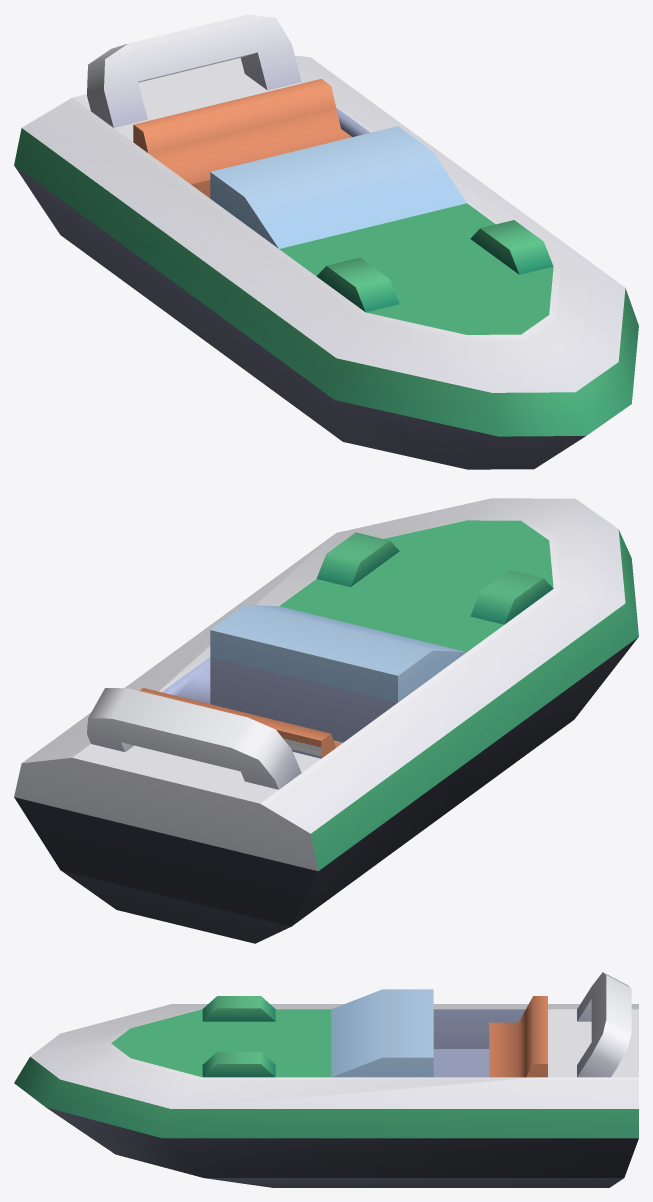
File: boat-speed-j-transformed.glb
3 views of the same model, one above another, from view 1: azimuth 30°, elevation 25°; view 2: azimuth 150°, elevation 25°; view 3: azimuth 270°, elevation 25° (orthographic). The views are drawn at different scales.
Visible parts, largest first — view 1: boat-speed-j; view 2: boat-speed-j; view 3: boat-speed-j.
Boxes of the visible parts, box(x1,y1,x2,y2) form: boat-speed-j: box(14, 14, 638, 469); boat-speed-j: box(14, 498, 638, 943); boat-speed-j: box(14, 972, 638, 1187).
Bounding box in the file's own units: 1.79 × 1.25 × 4.27.
Materials: 1 (1 with a texture image).
